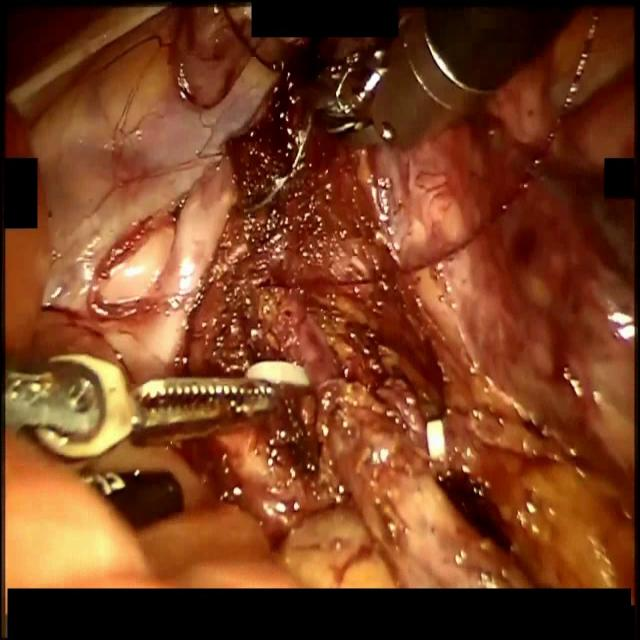surgical-area: (2, 0, 634, 587)
surgical-tool: (310, 0, 584, 143), (5, 348, 280, 460)
